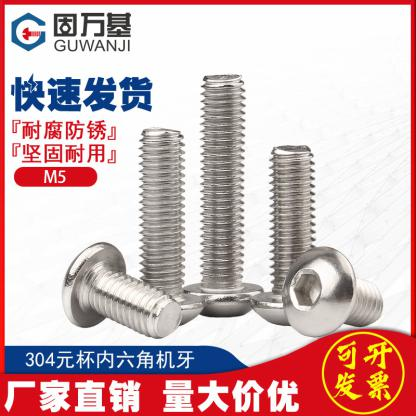FOD: (182, 73, 265, 320), (120, 126, 204, 331), (249, 144, 332, 328), (60, 240, 186, 340), (281, 246, 384, 340)
